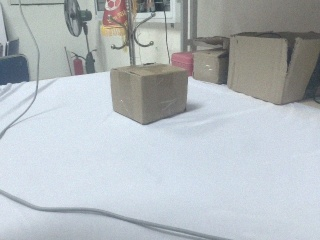box: (228, 30, 320, 105), (110, 62, 188, 126), (192, 36, 229, 84), (170, 48, 193, 72)
